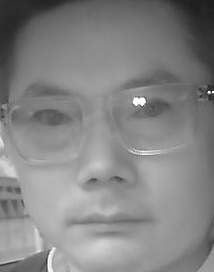eye: (28, 106, 75, 131), (130, 96, 172, 121)
glass: (108, 83, 198, 153), (7, 96, 83, 160)
mouth: (71, 203, 154, 247)
